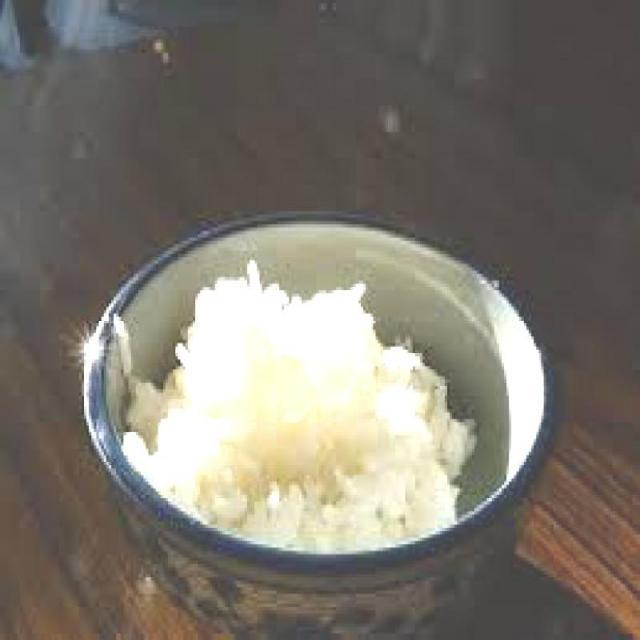Chicken -Chicken Inasal-: (113, 261, 473, 550)
